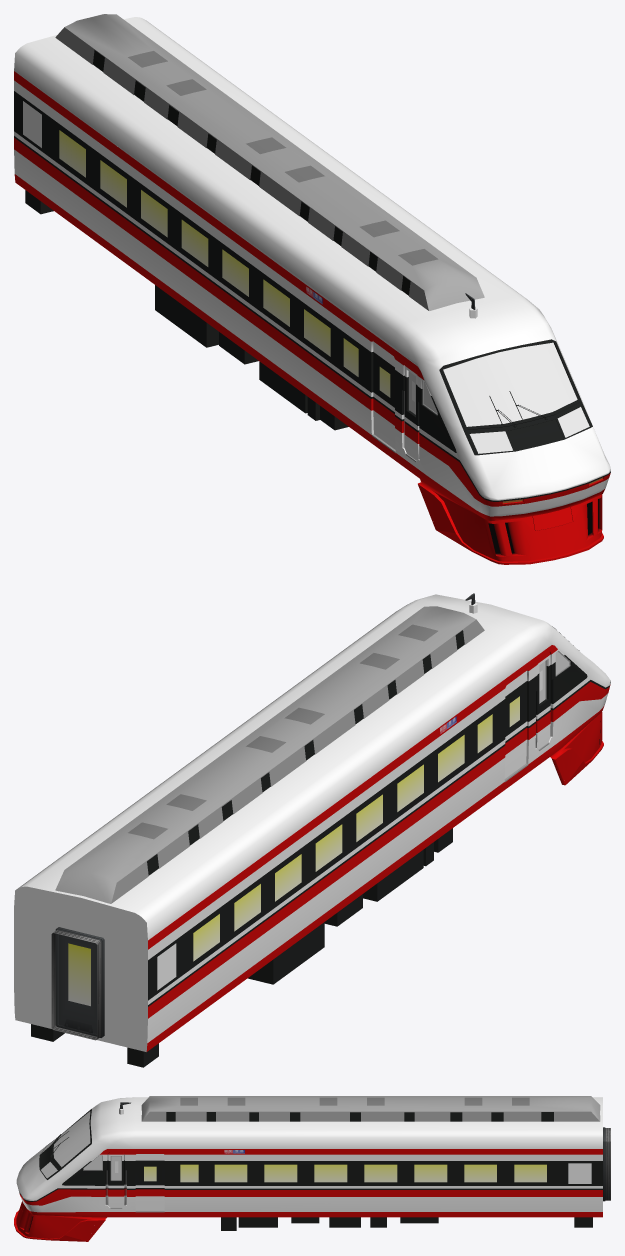
The picture shows the model from 3 angles, top to bottom: view 1: azimuth 30°, elevation 25°; view 2: azimuth 150°, elevation 25°; view 3: azimuth 270°, elevation 25°; orthographic projection. The views are drawn at different scales.
Visible parts, largest first — view 1: in; view 2: in; view 3: in.
Boxes of the visible parts, left/top/right/bottom form: in: left=14, top=14, right=610, bottom=564; in: left=14, top=593, right=610, bottom=1067; in: left=14, top=1096, right=610, bottom=1241.
Bounding box in the file's own units: 7.03 × 9.61 × 43.
Materials: 33 (32 with a texture image).
